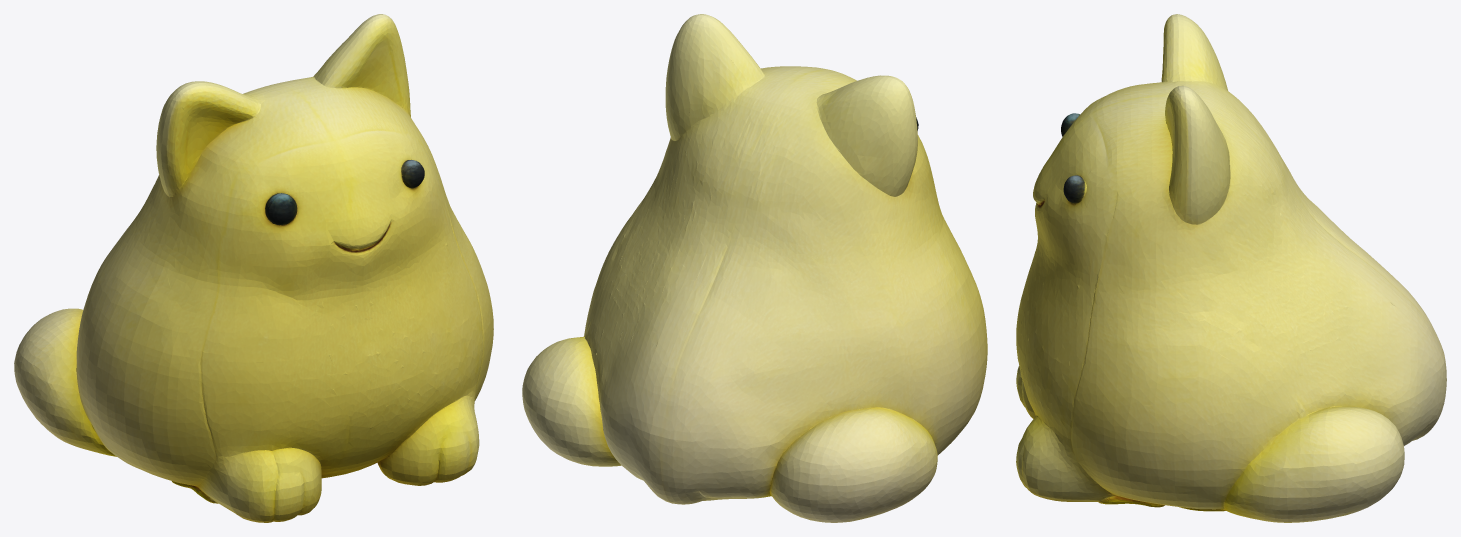
Rendered from cat.glb.
3 renders of one model, left to right at view 1: azimuth 30°, elevation 25°; view 2: azimuth 150°, elevation 25°; view 3: azimuth 270°, elevation 25°, orthographic. The views are drawn at different scales.
Parts seen in each view (by area): view 1: geometry_0; view 2: geometry_0; view 3: geometry_0.
Boxes of the visible parts, x1,y1,x2,y2 form: geometry_0: (14,14,493,522); geometry_0: (522,14,987,522); geometry_0: (1016,14,1446,522).
Size of the model in its own units: 0.0761 by 0.076 by 0.0728.
1 material, 1 textured.
